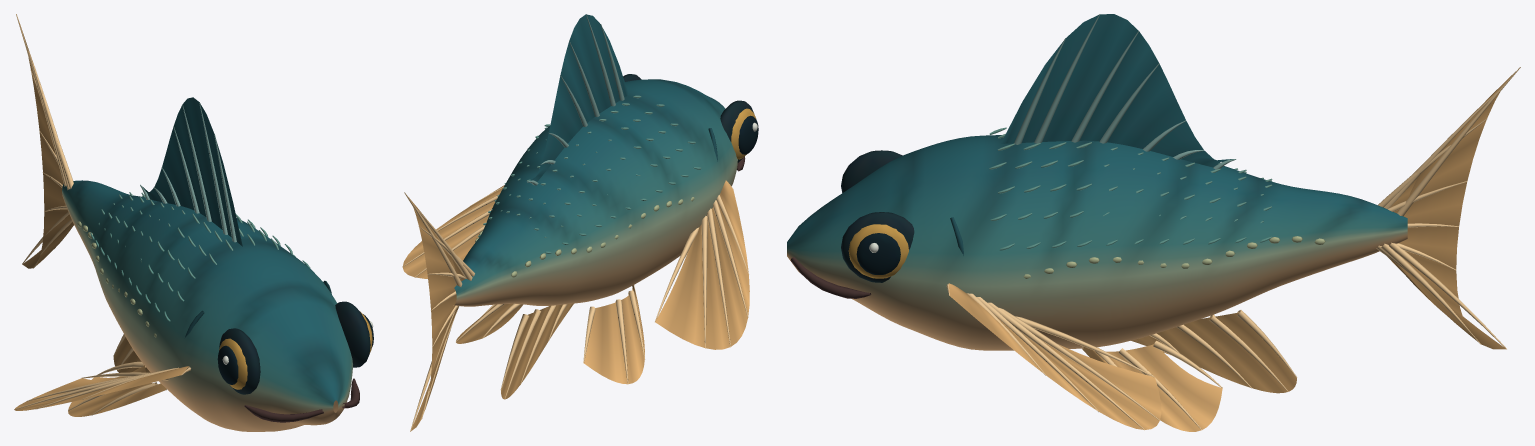
The model's file is fish.glb.
The picture shows the model from 3 angles, left to right: view 1: azimuth 30°, elevation 25°; view 2: azimuth 150°, elevation 25°; view 3: azimuth 270°, elevation 25°; orthographic projection. The views are drawn at different scales.
Visible parts, largest first — view 1: body, dorsal, tail, fin_-1, fins; view 2: body, fin_-1, fins, dorsal, tail, fin_1; view 3: body, dorsal, fins, tail, fin_1.
Part boxes in pixels (x1,y1,x2,y2): body: (62, 180, 373, 431); dorsal: (140, 97, 242, 246); tail: (16, 14, 73, 268); fin_-1: (14, 366, 190, 410); fins: (68, 334, 166, 416); body: (453, 74, 758, 306); fin_-1: (655, 180, 749, 349); fins: (456, 285, 644, 399); dorsal: (527, 14, 628, 185); tail: (404, 192, 474, 431); fin_1: (402, 185, 504, 278); body: (787, 127, 1407, 350); dorsal: (1001, 14, 1236, 169); fins: (1081, 310, 1297, 431); tail: (1376, 67, 1520, 349); fin_1: (946, 283, 1161, 430).
Bounding box in the file's own units: 1.98 × 1.85 × 3.25.
